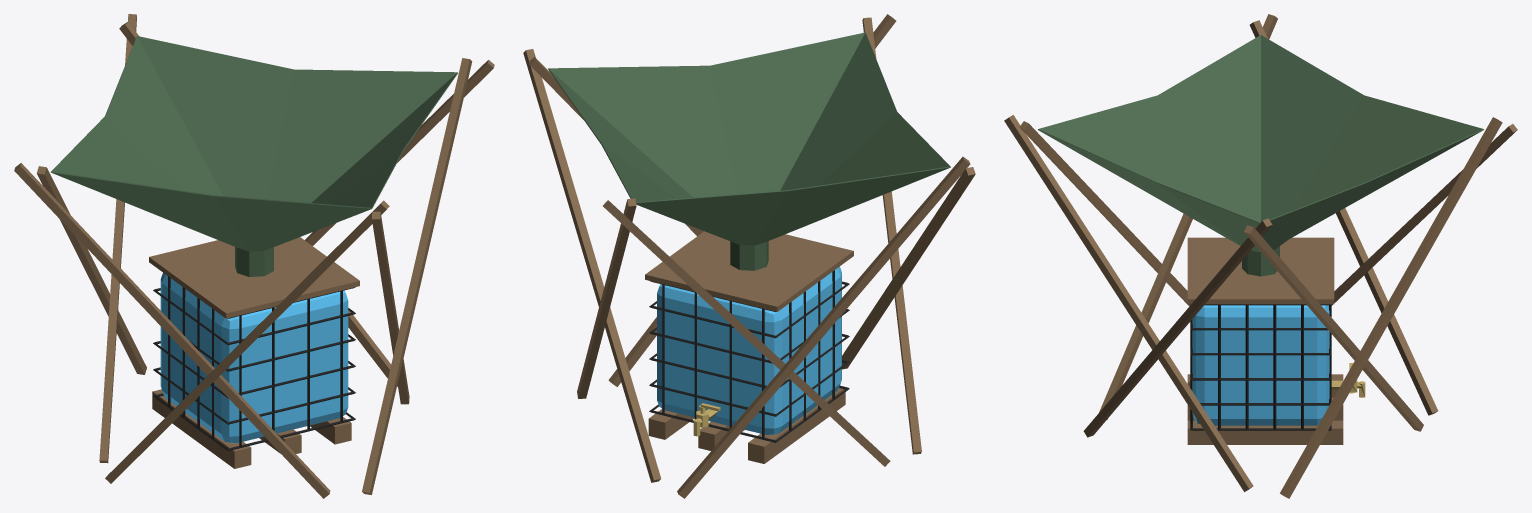
The model's file is Raincatcher_Wider.fbx.
The picture shows the model from 3 angles, left to right: view 1: azimuth 30°, elevation 25°; view 2: azimuth 150°, elevation 25°; view 3: azimuth 270°, elevation 25°; orthographic projection. The views are drawn at different scales.
Parts seen in each view (by area): view 1: Wider Rain Catcher Funnel, Wider Rain Catcher Supports, Wider Rain Catcher, Wider Rain Catcher Lid, Wider Rain Catcher Case, Cube.001; view 2: Wider Rain Catcher Funnel, Wider Rain Catcher Supports, Wider Rain Catcher, Wider Rain Catcher Lid, Wider Rain Catcher Case, Cube.001, Ferrocement Tap.001; view 3: Wider Rain Catcher Funnel, Wider Rain Catcher Supports, Wider Rain Catcher, Wider Rain Catcher Lid, Wider Rain Catcher Case, Cube.001.
Boxes of the visible parts, x1,y1,x2,y2 form: Wider Rain Catcher Funnel: (50, 36, 457, 276); Wider Rain Catcher Supports: (14, 14, 494, 498); Wider Rain Catcher: (160, 273, 348, 443); Wider Rain Catcher Lid: (149, 237, 359, 318); Wider Rain Catcher Case: (153, 276, 355, 450); Cube.001: (152, 389, 351, 468); Wider Rain Catcher Funnel: (548, 32, 950, 270); Wider Rain Catcher Supports: (523, 14, 975, 498); Wider Rain Catcher: (657, 266, 841, 434); Wider Rain Catcher Lid: (645, 231, 853, 311); Wider Rain Catcher Case: (649, 270, 849, 442); Cube.001: (648, 388, 845, 463); Ferrocement Tap.001: (693, 403, 720, 436); Wider Rain Catcher Funnel: (1038, 35, 1483, 276); Wider Rain Catcher Supports: (1004, 14, 1517, 498); Wider Rain Catcher: (1192, 305, 1329, 425); Wider Rain Catcher Lid: (1187, 237, 1334, 304); Wider Rain Catcher Case: (1190, 304, 1331, 430); Cube.001: (1187, 374, 1343, 444).
Bounding box in the file's own units: 3.71 × 3.71 × 2.43.
